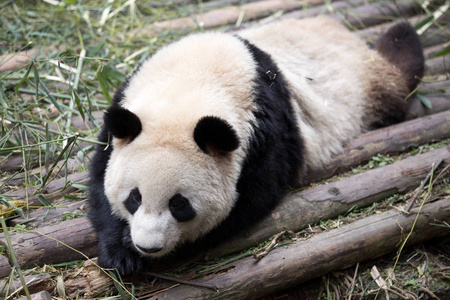panda: (78, 8, 437, 279)
